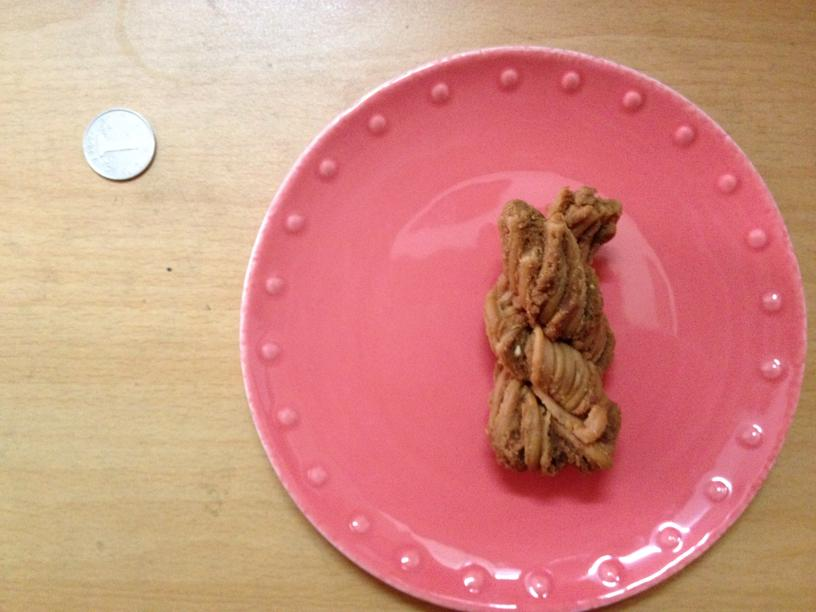coin: (79, 107, 157, 182)
fired_dough_twist: (483, 191, 624, 472)
